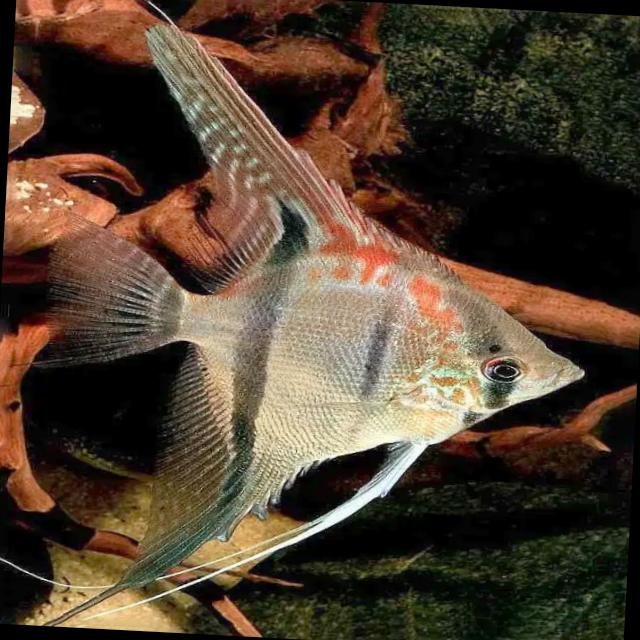AngelFish: (43, 14, 606, 640)
